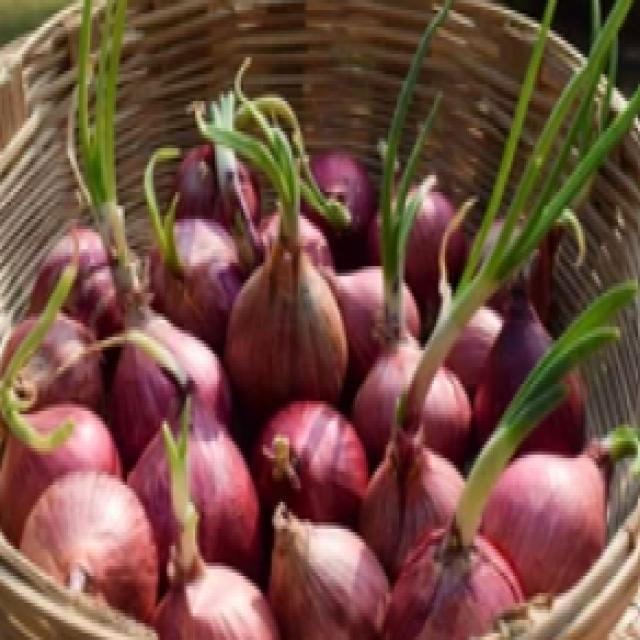sprouting: (406, 158, 568, 404), (76, 94, 140, 290), (230, 104, 294, 250), (152, 414, 200, 572), (384, 101, 406, 313), (447, 424, 478, 546), (0, 336, 24, 432)
